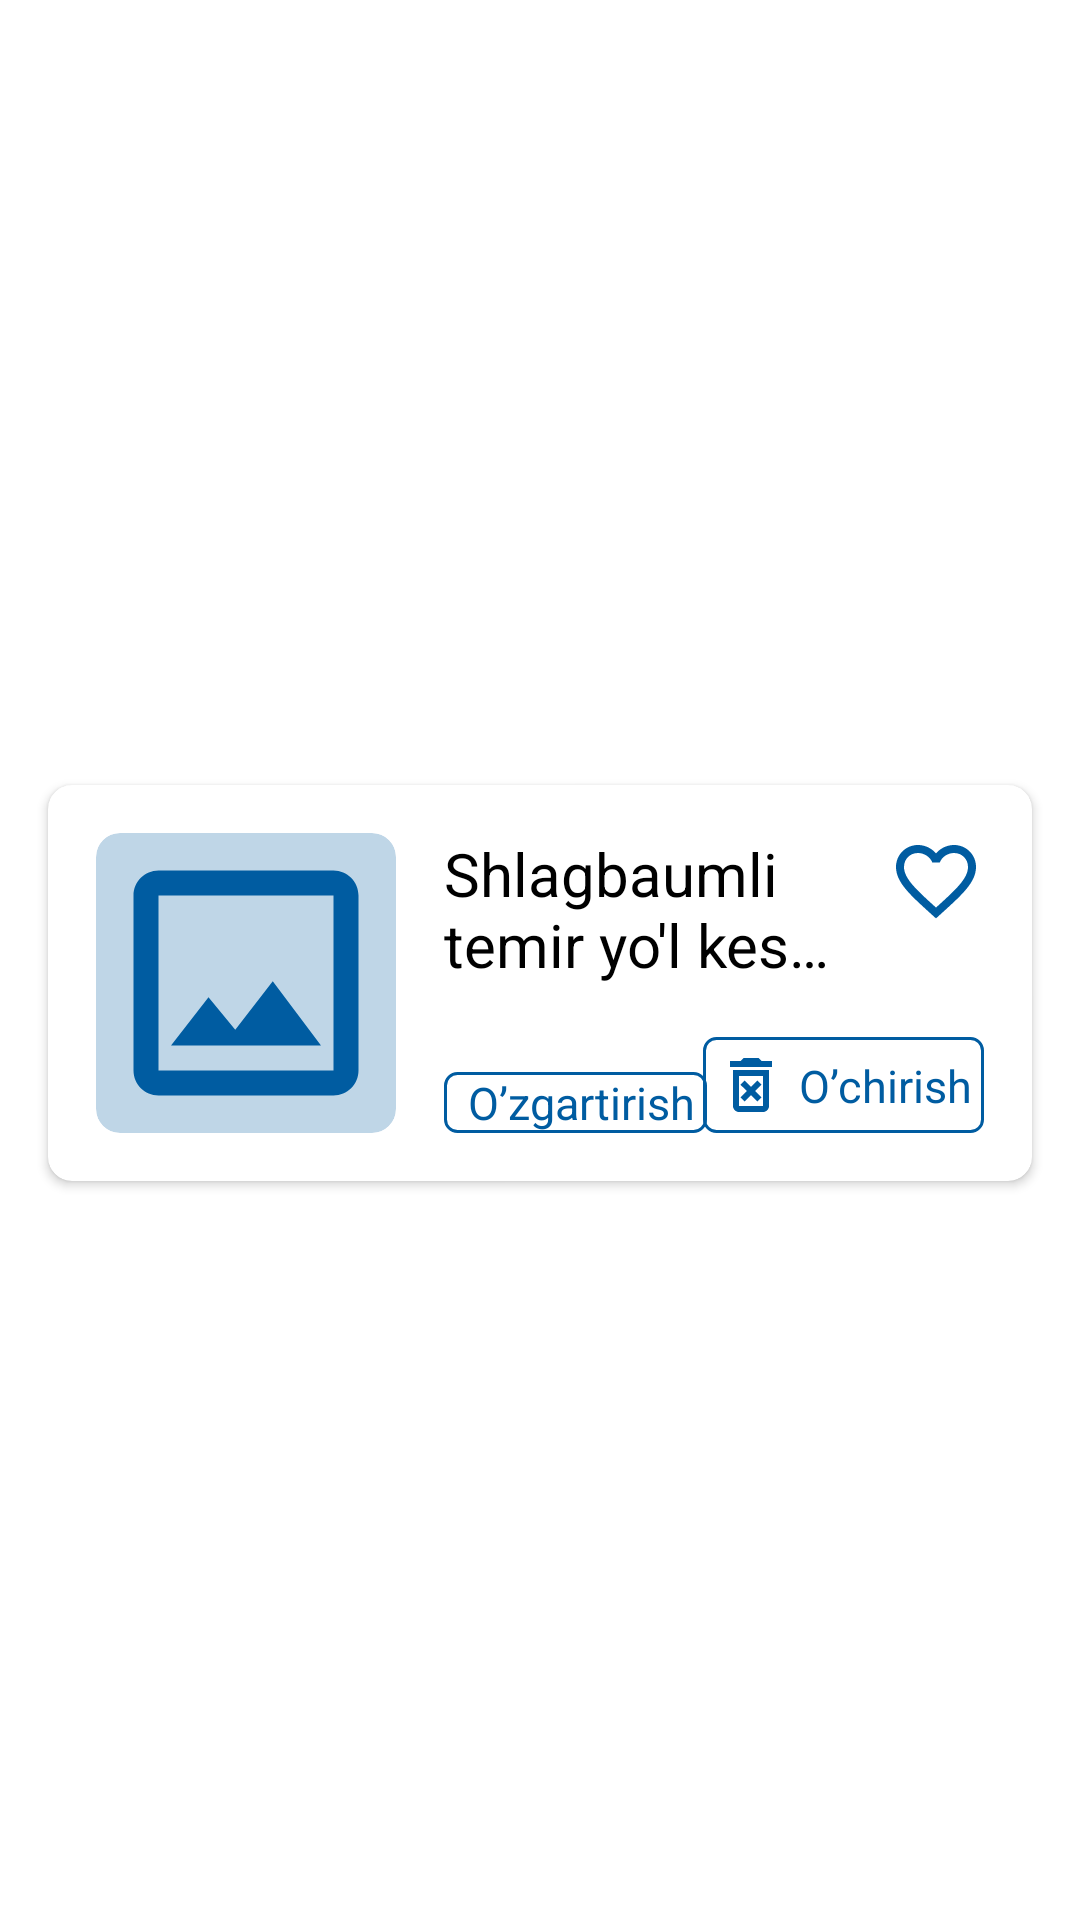

Where to tap for icons on this 1080px×1920px app screen, as point (x, y):
delete: point (751, 1085)
like: point (936, 881)
